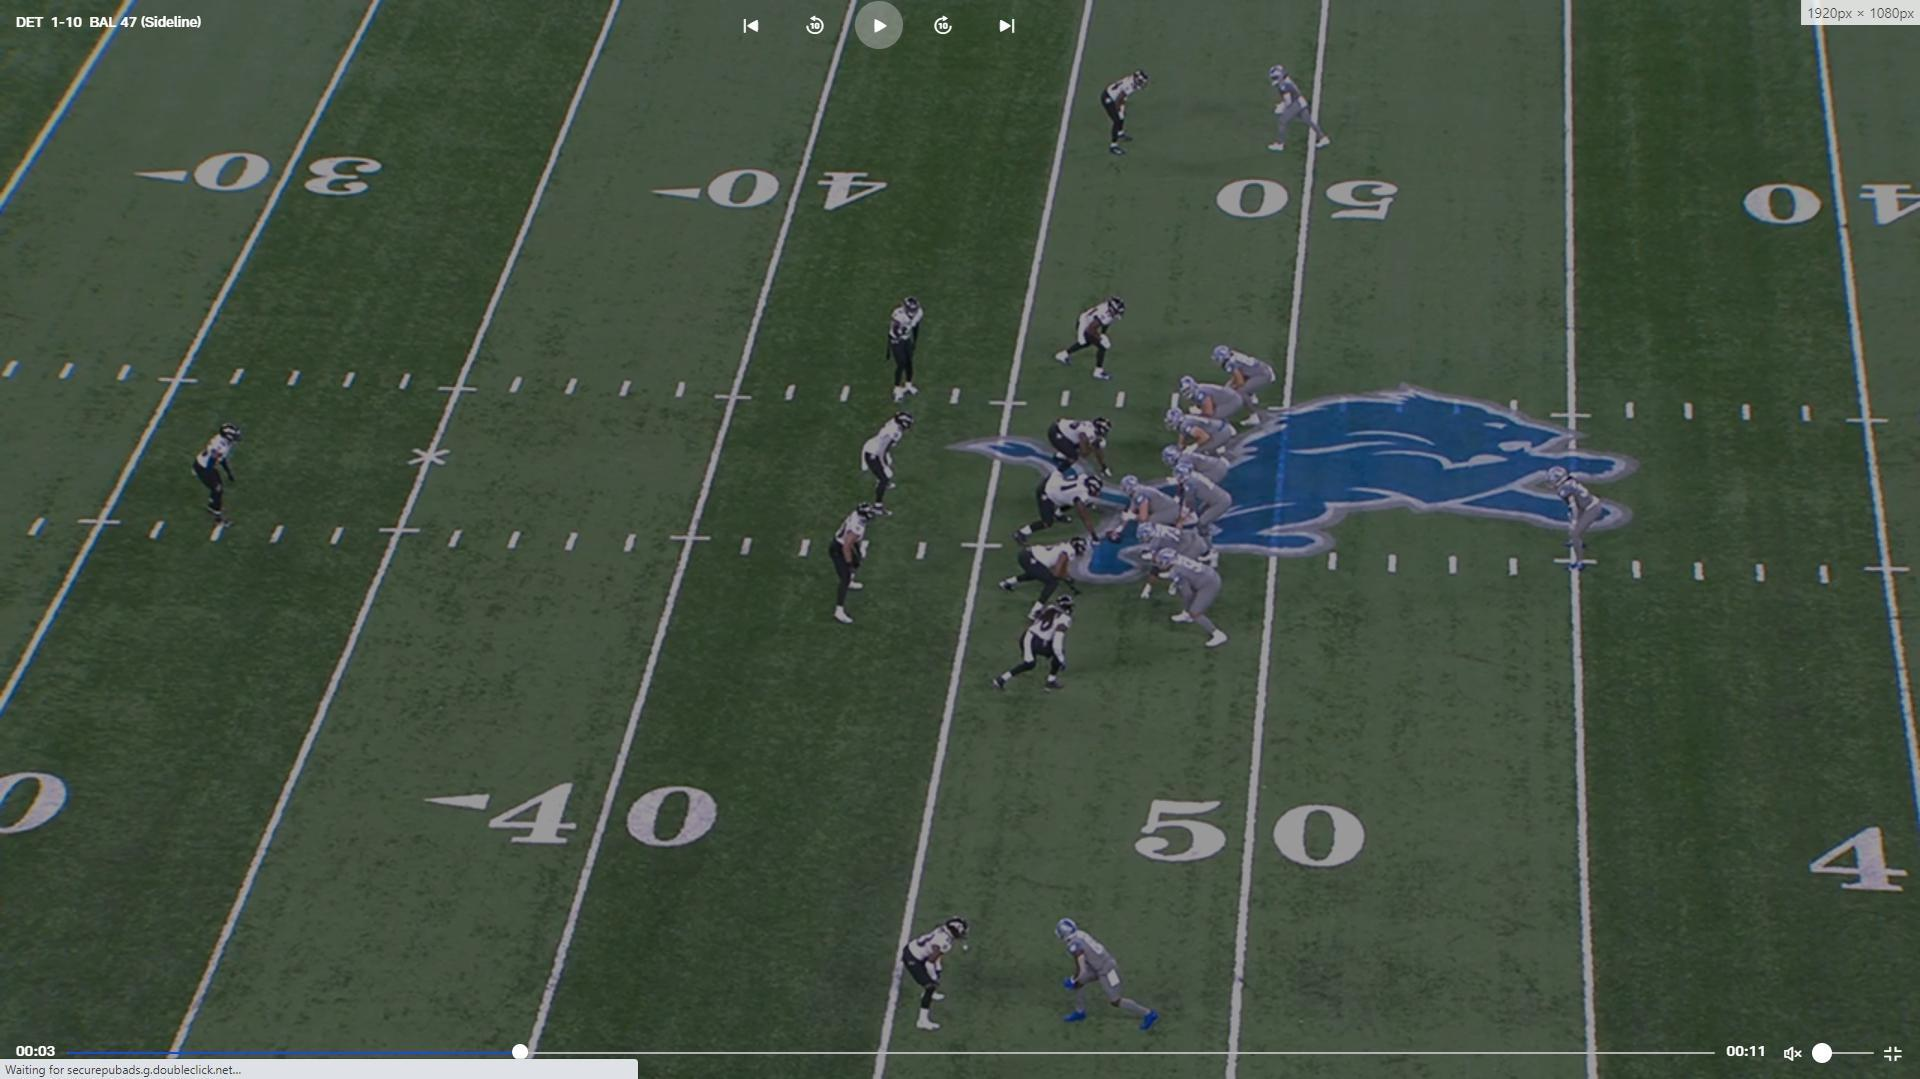defense: (901, 911, 975, 1034), (994, 594, 1079, 698), (1014, 467, 1108, 546), (1054, 293, 1130, 386), (828, 503, 882, 631), (1000, 538, 1096, 609), (858, 410, 916, 518), (194, 421, 247, 538), (881, 293, 927, 404), (1101, 69, 1153, 162), (1042, 416, 1113, 481)
oline: (1147, 547, 1228, 653), (1131, 513, 1201, 601), (1116, 474, 1185, 541), (1158, 445, 1228, 512), (1164, 408, 1234, 459)
qb: (1168, 455, 1232, 546)
skill: (1048, 911, 1163, 1035), (1258, 65, 1335, 160), (1545, 460, 1602, 576), (1213, 342, 1279, 427), (1175, 376, 1244, 437)
